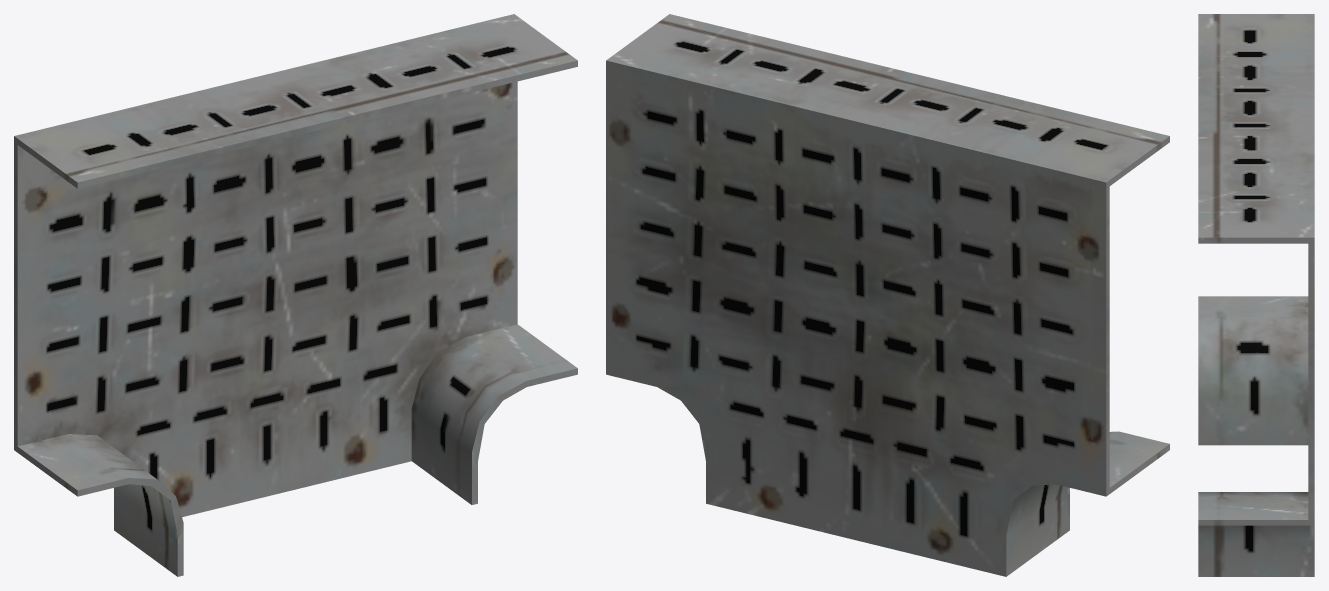
The model's file is CableTray_08a_snaps019.fbx.
3 views of the same model, side by side, from view 1: azimuth 30°, elevation 25°; view 2: azimuth 150°, elevation 25°; view 3: azimuth 270°, elevation 25° (orthographic). The views are drawn at different scales.
Parts seen in each view (by area): view 1: CableTray_08a_snaps019_LOD0; view 2: CableTray_08a_snaps019_LOD0; view 3: CableTray_08a_snaps019_LOD0.
Part boxes in pixels (<box>): CableTray_08a_snaps019_LOD0: <box>14,14,577,576</box>; CableTray_08a_snaps019_LOD0: <box>606,14,1169,576</box>; CableTray_08a_snaps019_LOD0: <box>1198,14,1314,576</box>.
Size of what is drawn, in the model's own units: 25 by 20 by 5.5.
